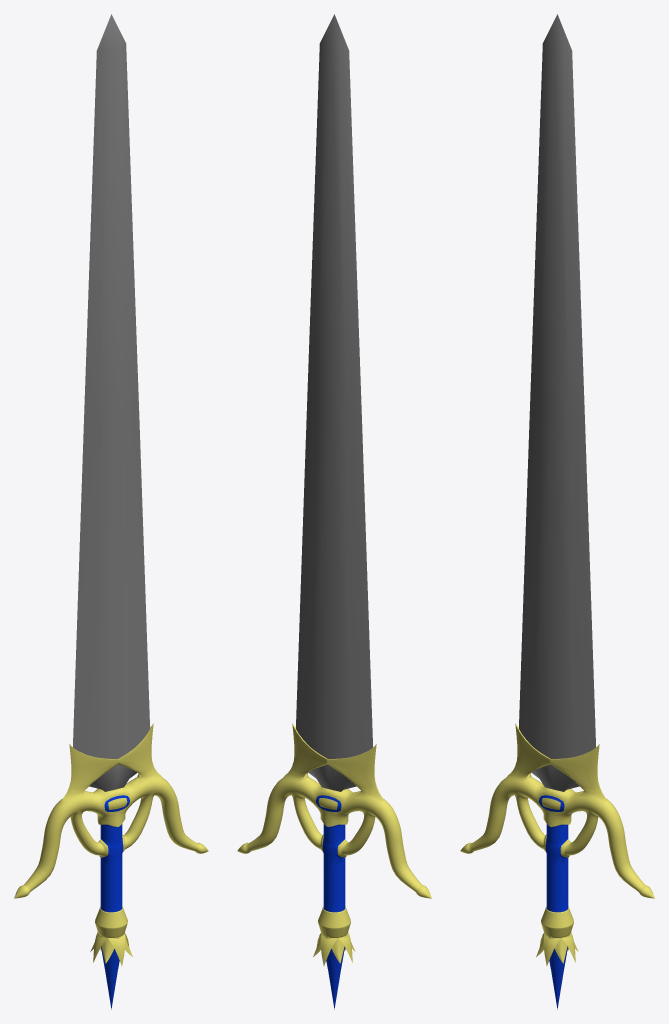
The model's file is sword.fbx.
The picture shows the model from 3 angles, left to right: view 1: azimuth 30°, elevation 25°; view 2: azimuth 150°, elevation 25°; view 3: azimuth 330°, elevation 25°; orthographic projection.
Visible parts, largest first — view 1: sword.002, steel; view 2: sword.002, steel; view 3: sword.002, steel.
Boxes of the visible parts, x1=… form: sword.002: x1=73, y1=14, x2=149, y2=791; steel: x1=14, y1=723, x2=208, y2=1009; sword.002: x1=296, y1=14, x2=372, y2=791; steel: x1=237, y1=723, x2=431, y2=1009; sword.002: x1=519, y1=14, x2=595, y2=791; steel: x1=460, y1=723, x2=654, y2=1009.
Size of the model in its own units: 0.2729 by 0.0512 by 1.33.
